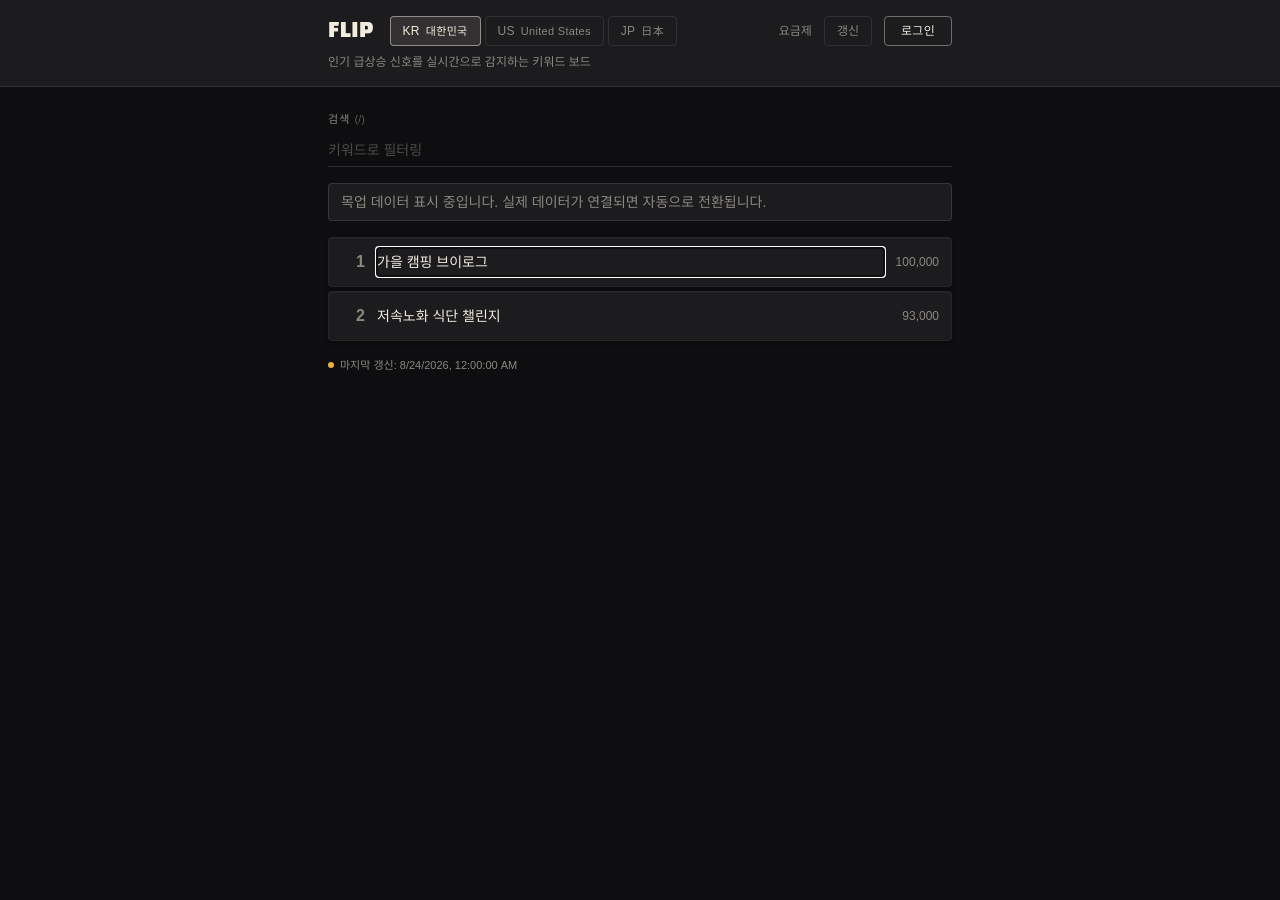
Scenario: Home dashboard › modal accessibility (useModalA11y) › closes the keyword detail modal on Escape and restores focus to the row that opened it
The image size is (1280, 900).
Click the button "가을 캠핑 브이로그".
click(432, 262)  # box [377,248,884,276]
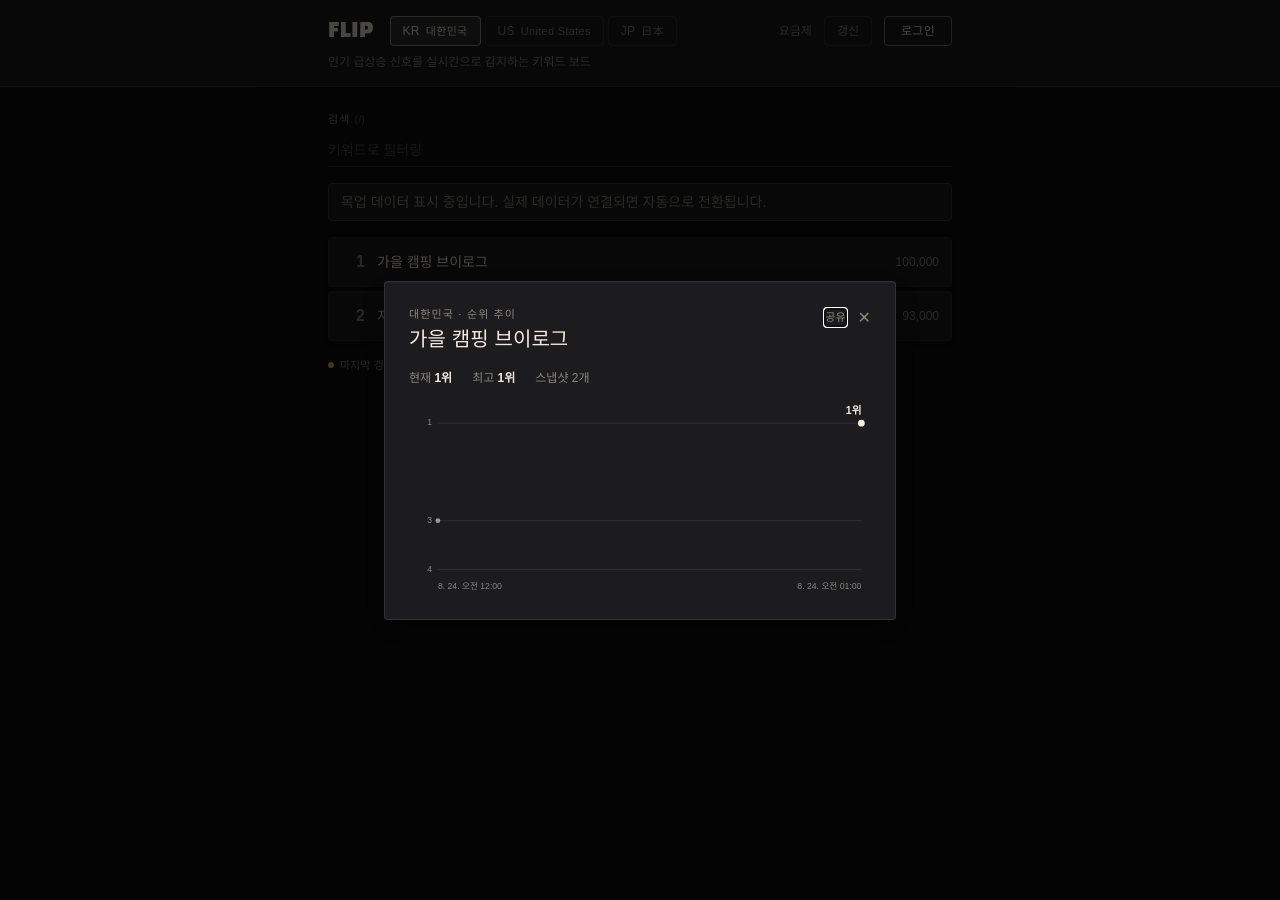
Expected: the dialog named "가을 캠핑 브이로그 순위 추이" is shown
Press Escape
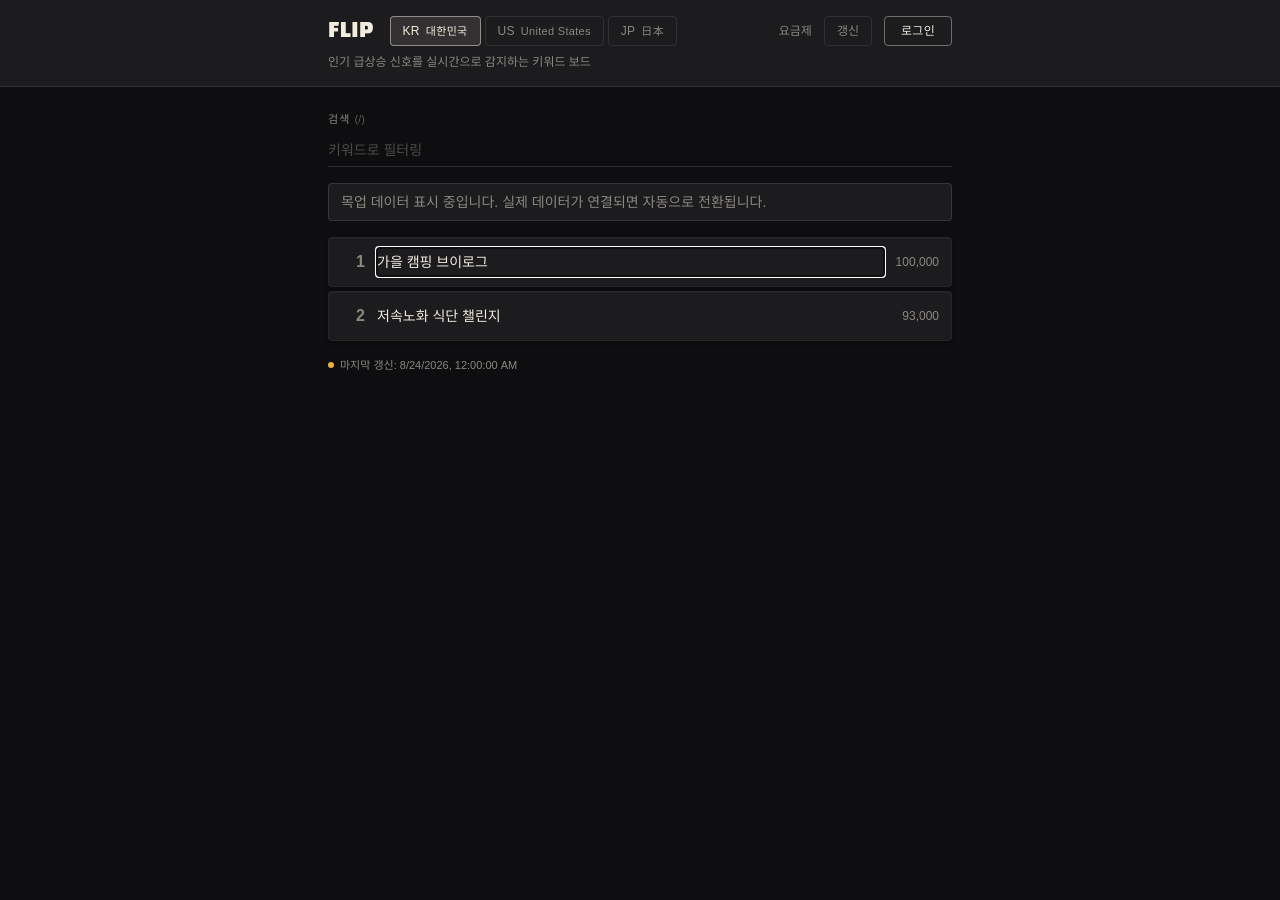
Expected: the dialog is gone
